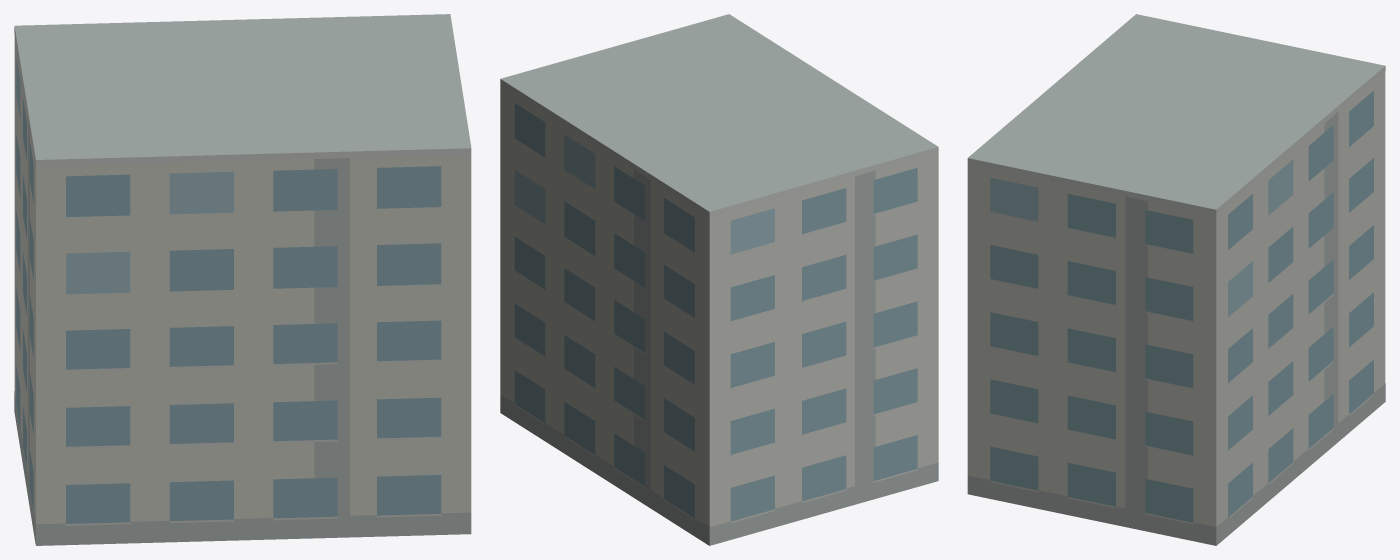
Rendered from survey-upis-32890951.glb.
3 renders of one model, left to right at view 1: azimuth 30°, elevation 25°; view 2: azimuth 150°, elevation 25°; view 3: azimuth 270°, elevation 25°, orthographic. The views are drawn at different scales.
Visible parts, largest first — view 1: survey-upis-32890951.tmp; view 2: survey-upis-32890951.tmp; view 3: survey-upis-32890951.tmp.
Part boxes in pixels (x1,y1,x2,y2): survey-upis-32890951.tmp: (14,14,471,545); survey-upis-32890951.tmp: (500,14,938,545); survey-upis-32890951.tmp: (967,14,1385,545).
Size of the model in its own units: 17.87 by 14.3 by 16.12.
